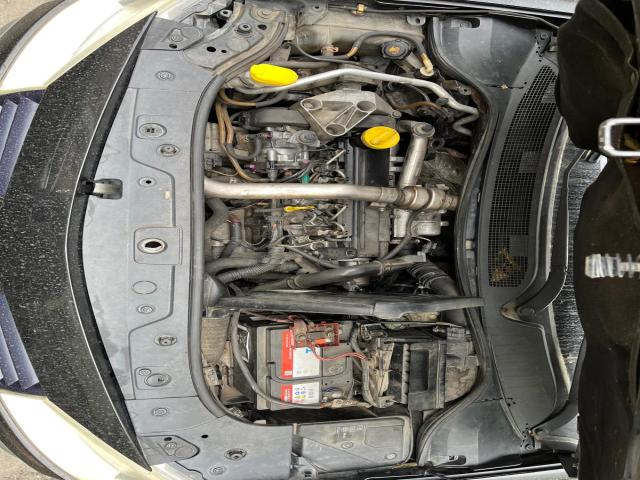accumulator: (223, 308, 370, 410)
alternator: (205, 123, 223, 155)
antifreeze_tank: (293, 8, 427, 60)
fuse_box: (293, 416, 412, 472)
high_pressure_pump: (250, 131, 310, 180)
